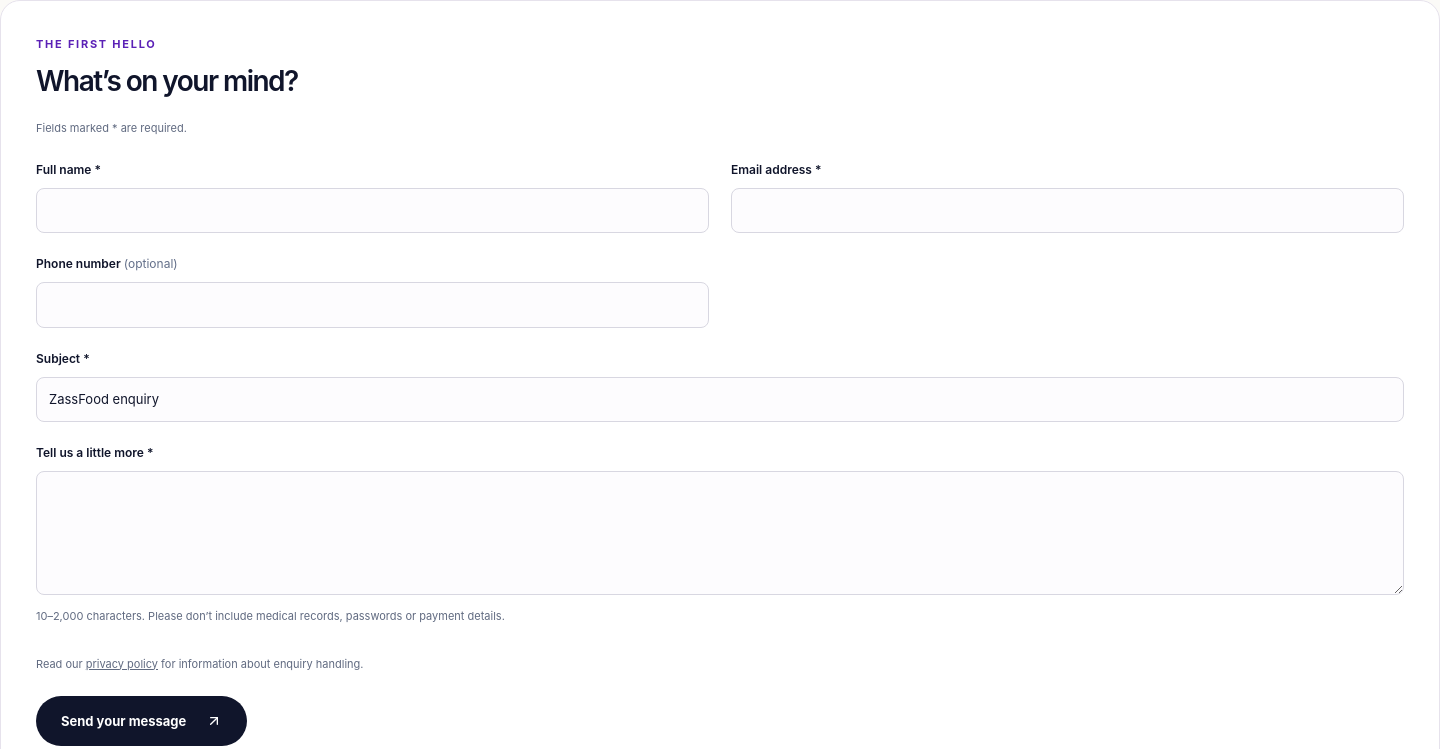
Scenario: submits valid input and reports success
Type "Test Person" into the field labelled "Full name *" at (372, 211), box x1=36 y1=188 x2=709 y2=233
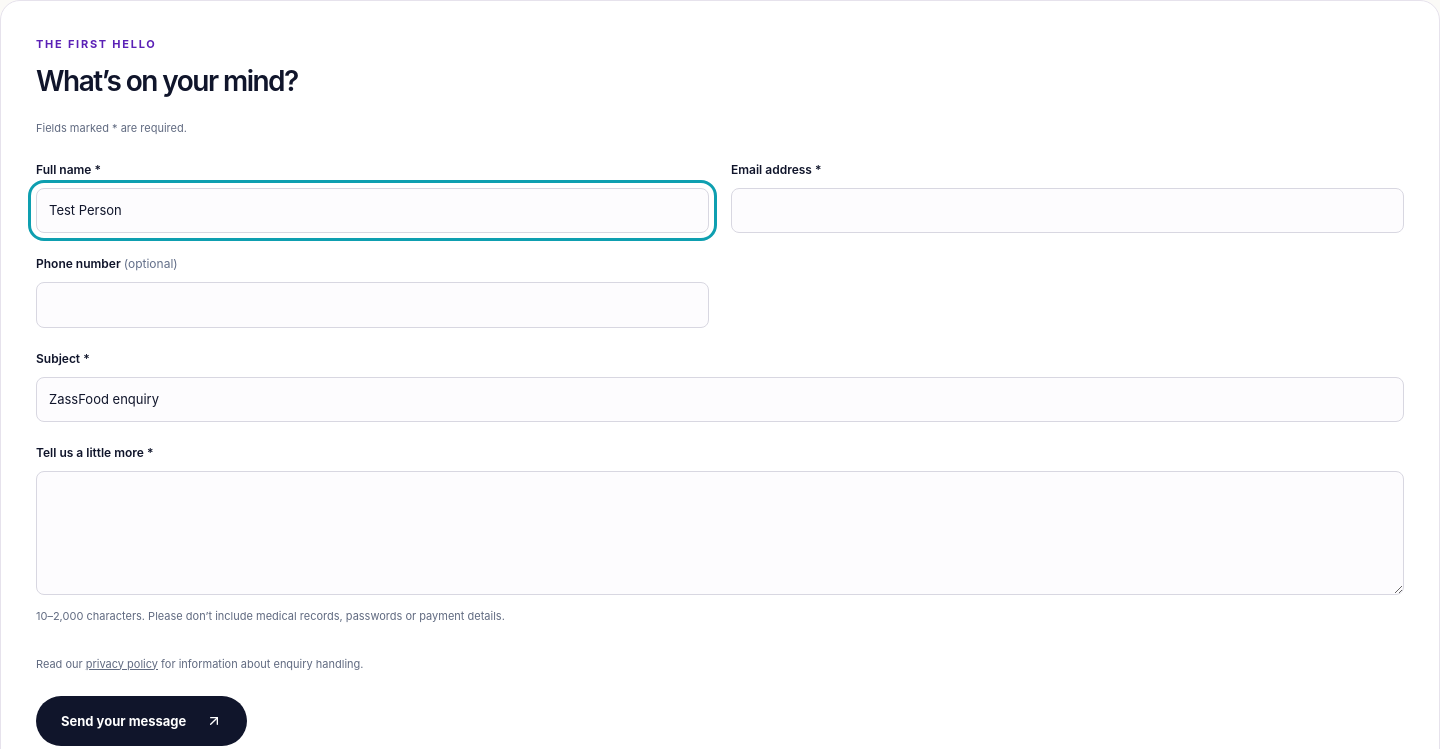
Type "person@example.com" into the field labelled "Email address *" at (1068, 211), box x1=731 y1=188 x2=1404 y2=233
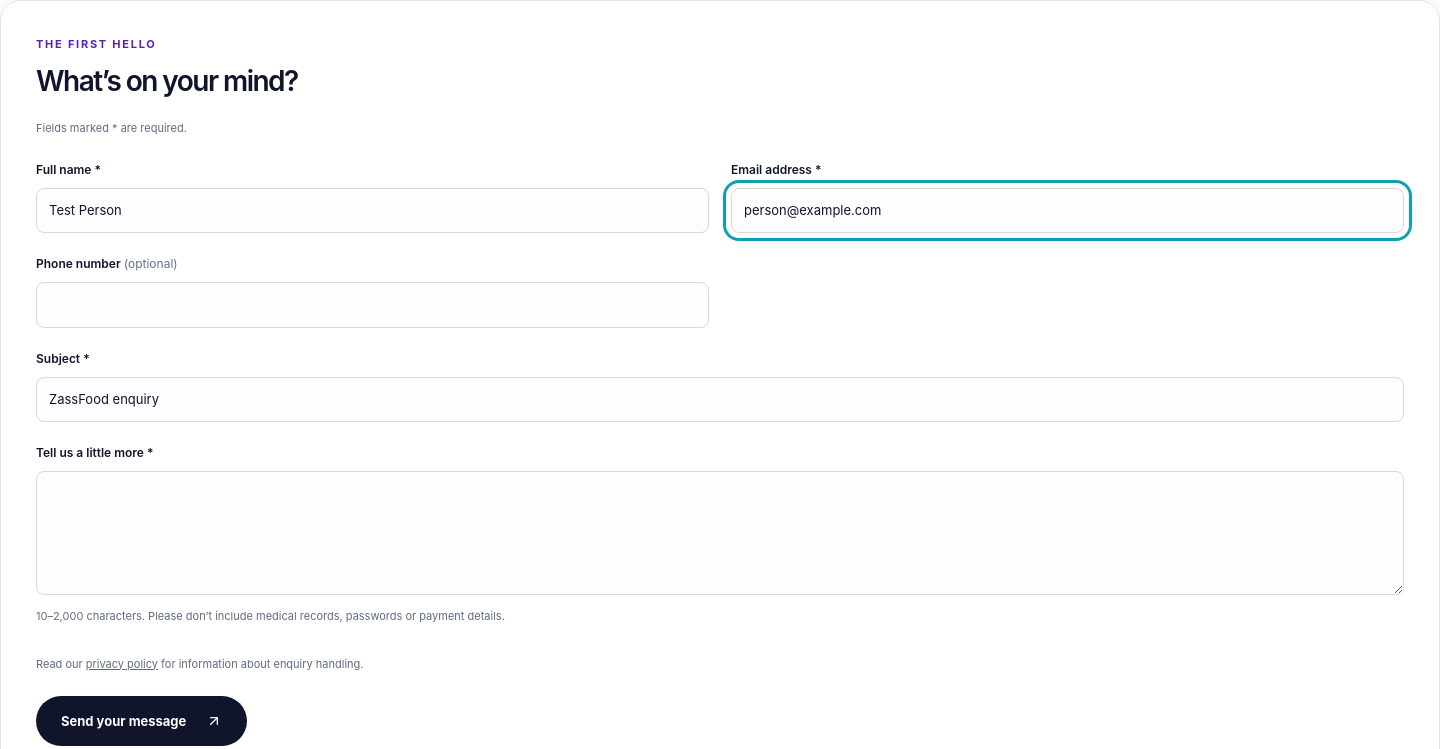
Type "Please tell me about your platform." into the text box labelled "Tell us a little more *" at (720, 533), box x1=36 y1=471 x2=1404 y2=595
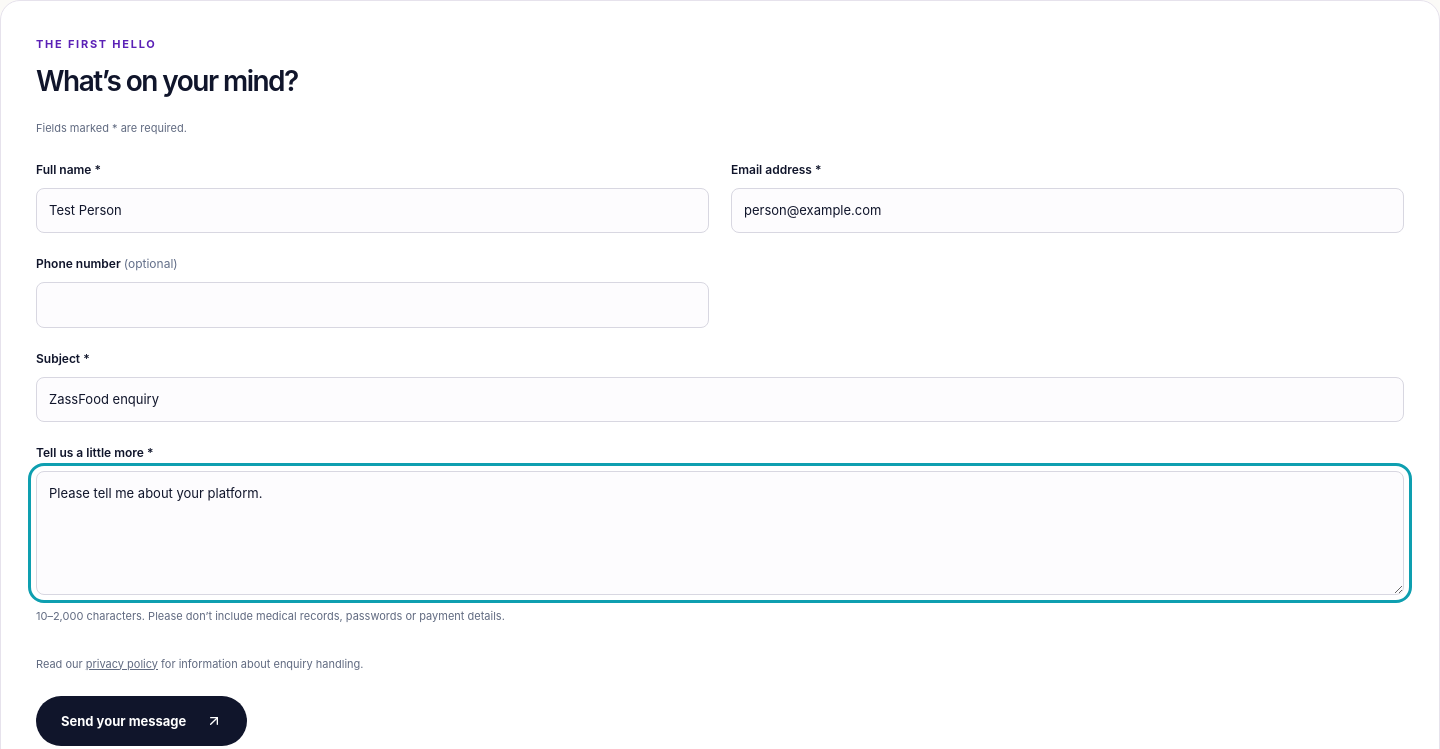
Click the button "Send your message" at (142, 721), box x1=36 y1=696 x2=247 y2=746
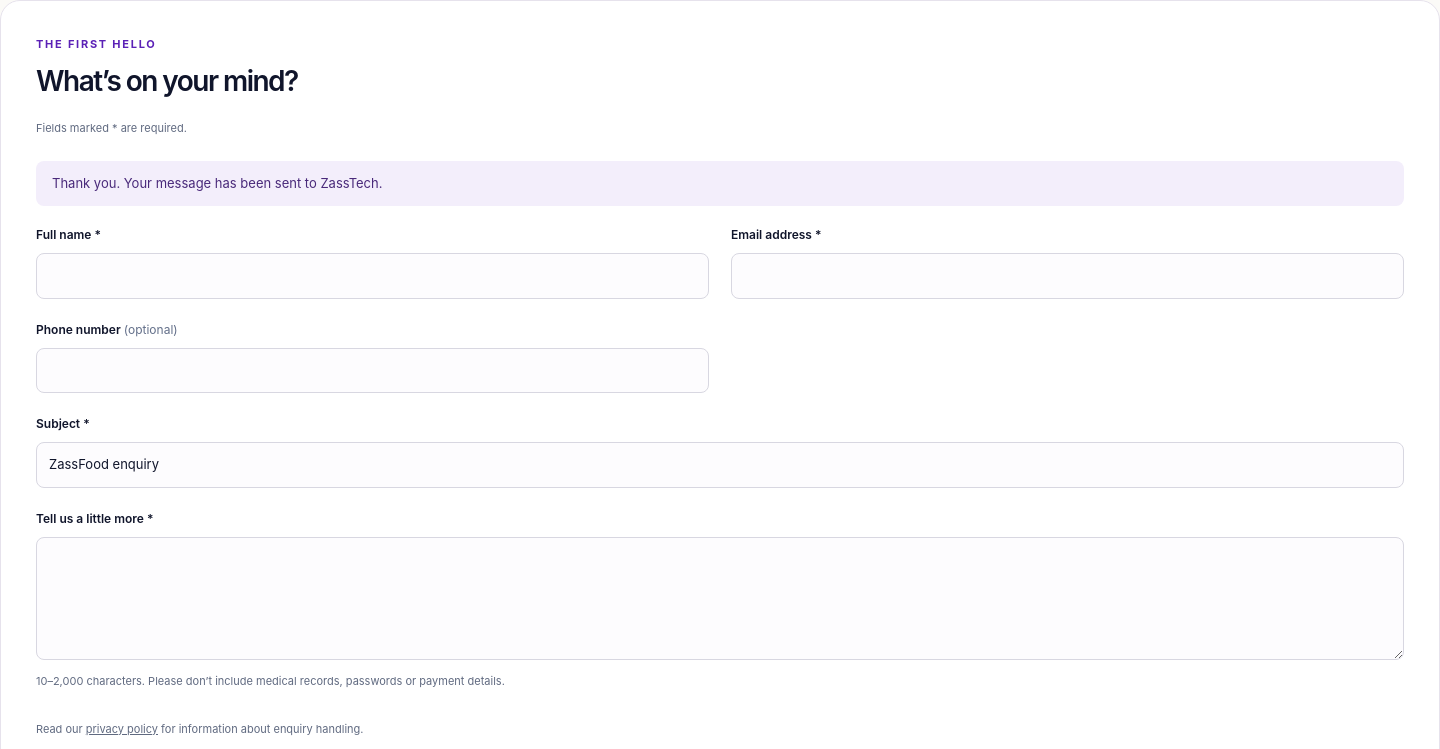
Check: the text "Thank you. Your message has been sent to ZassTech." is shown, box x1=36 y1=161 x2=1404 y2=206
